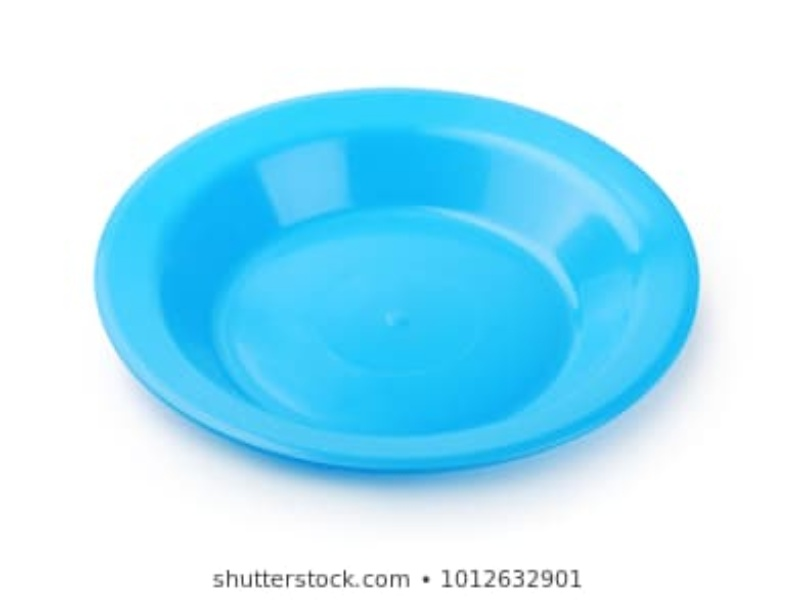plastic-plate: (93, 87, 702, 478)
